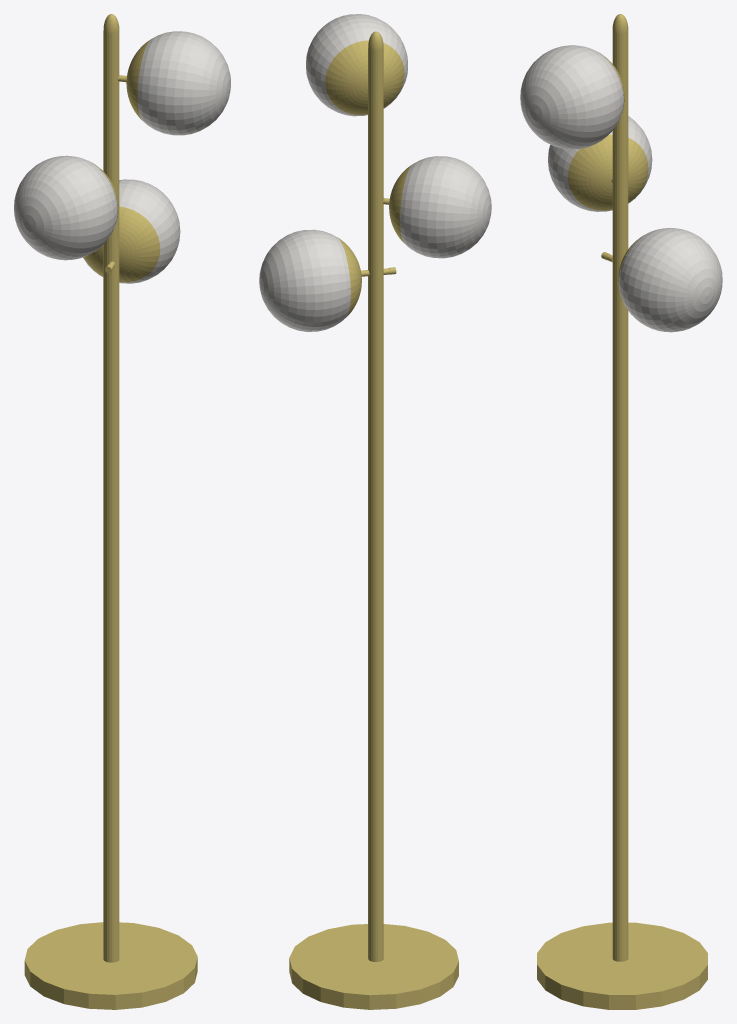
File: floorlamp.glb
3 views of the same model, side by side, from view 1: azimuth 30°, elevation 25°; view 2: azimuth 150°, elevation 25°; view 3: azimuth 270°, elevation 25° (orthographic).
Parts seen in each view (by area): view 1: Mesh_Mesh_head_geo.001_lambert2SG.001; view 2: Mesh_Mesh_head_geo.001_lambert2SG.001; view 3: Mesh_Mesh_head_geo.001_lambert2SG.001.
Part boxes in pixels (box(x1,y1,x2,y2)): Mesh_Mesh_head_geo.001_lambert2SG.001: box(14, 14, 230, 1009); Mesh_Mesh_head_geo.001_lambert2SG.001: box(259, 14, 491, 1009); Mesh_Mesh_head_geo.001_lambert2SG.001: box(520, 14, 722, 1009).
Bounding box in the file's own units: 20.61 × 100 × 19.1.
